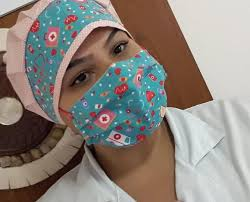with_mask_and_cap: (7, 1, 169, 149)
